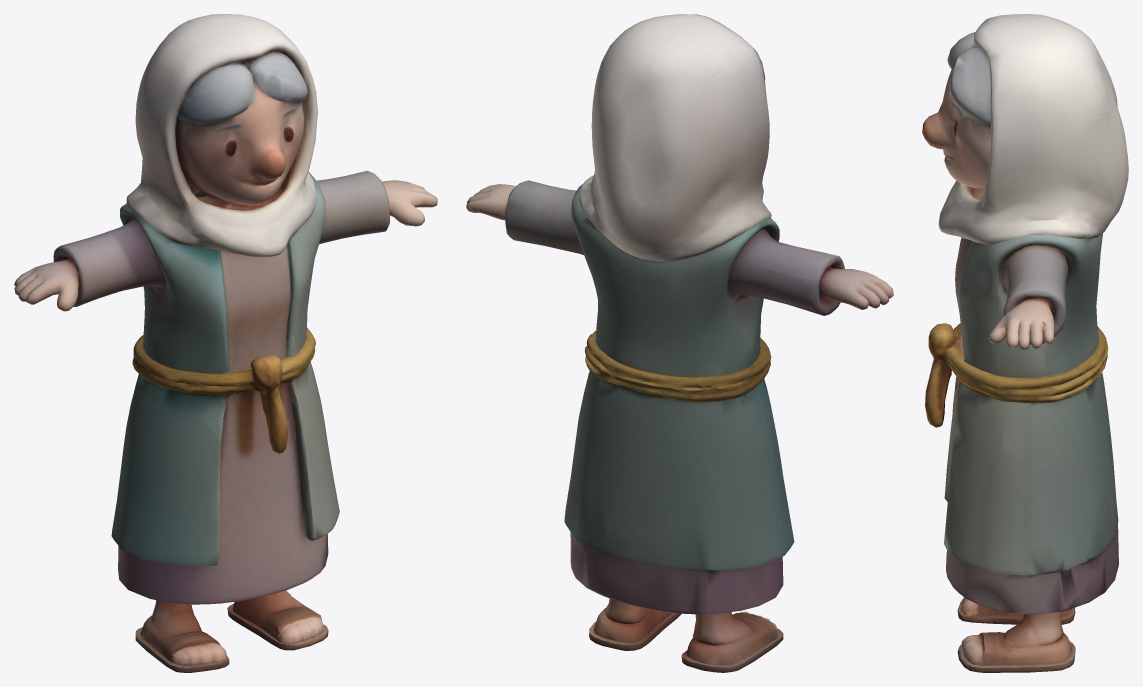
File: wife_tm.glb
3 views of the same model, side by side, from view 1: azimuth 30°, elevation 25°; view 2: azimuth 150°, elevation 25°; view 3: azimuth 270°, elevation 25° (orthographic).
Parts seen in each view (by area): view 1: wife; view 2: wife; view 3: wife.
Part boxes in pixels (x1=…): wife: x1=14, y1=14, x2=437, y2=672; wife: x1=466, y1=14, x2=893, y2=672; wife: x1=922, y1=14, x2=1128, y2=672.
Size of the model in its own units: 1.03 by 1.45 by 0.4451.
1 material, 1 textured.
